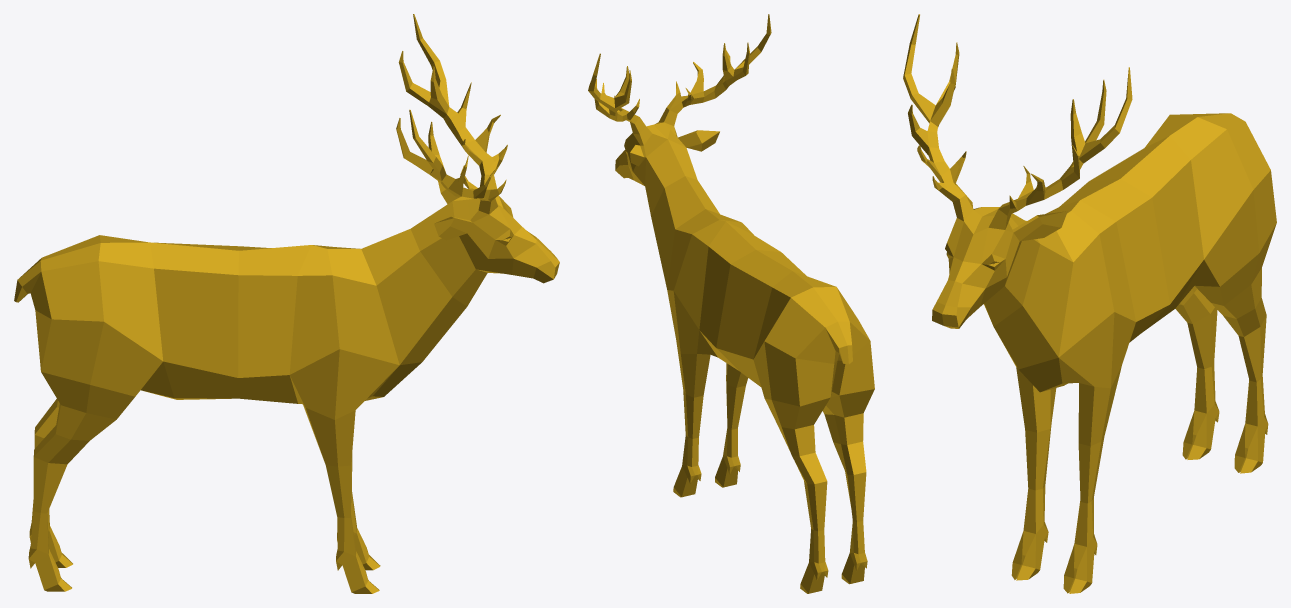
The model's file is reindeer_gltf.gltf.
The picture shows the model from 3 angles, left to right: view 1: azimuth 30°, elevation 25°; view 2: azimuth 150°, elevation 25°; view 3: azimuth 270°, elevation 25°; orthographic projection. The views are drawn at different scales.
Parts seen in each view (by area): view 1: ORIGAMI_Cerf, Object092; view 2: ORIGAMI_Cerf, Object092; view 3: ORIGAMI_Cerf, Object092.
Boxes of the visible parts, left/top/right/bottom form: ORIGAMI_Cerf: left=14, top=235, right=421, bottom=593; Object092: left=361, top=14, right=559, bottom=365; ORIGAMI_Cerf: left=667, top=209, right=874, bottom=593; Object092: left=588, top=14, right=771, bottom=289; ORIGAMI_Cerf: left=1005, top=113, right=1276, bottom=593; Object092: left=903, top=14, right=1132, bottom=369.
Bounding box in the file's own units: 3.73 × 4.48 × 2.72.
